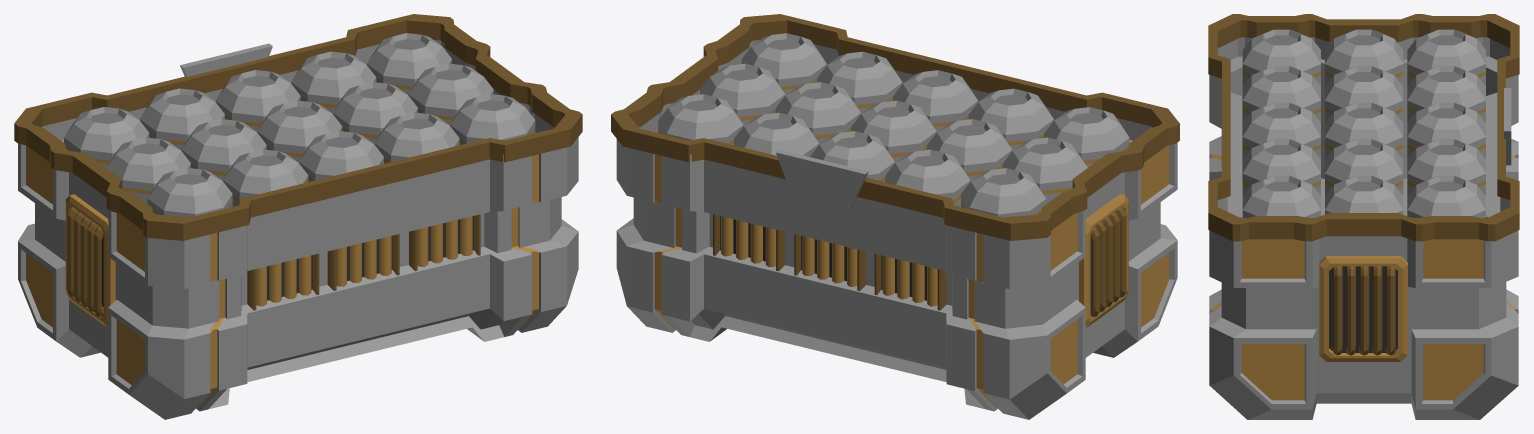
The model's file is Props_ContainerFull.glb.
3 renders of one model, left to right at view 1: azimuth 30°, elevation 25°; view 2: azimuth 150°, elevation 25°; view 3: azimuth 270°, elevation 25°, orthographic.
Visible parts, largest first — view 1: Props_ContainerFull; view 2: Props_ContainerFull; view 3: Props_ContainerFull.
Boxes of the visible parts, <box> form: Props_ContainerFull: <box>14,14,582,419</box>; Props_ContainerFull: <box>611,14,1179,419</box>; Props_ContainerFull: <box>1208,14,1519,419</box>.
Size of the model in its own units: 1.2 by 0.5824 by 0.7517.
